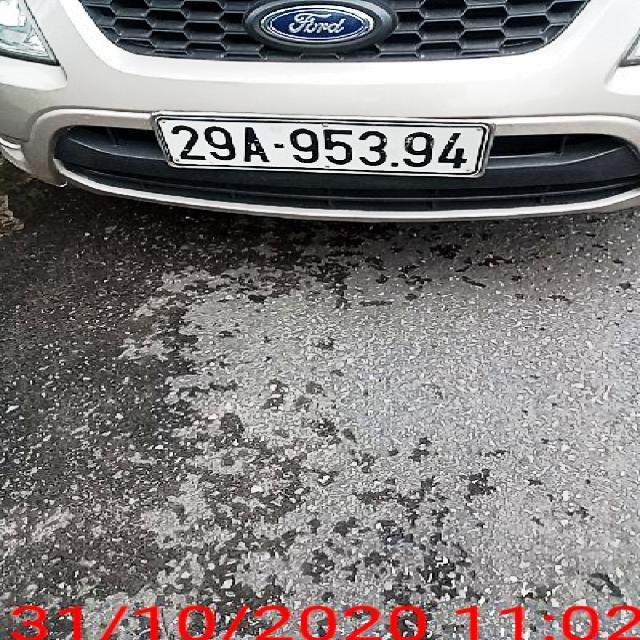license_plate: (155, 112, 498, 179)
